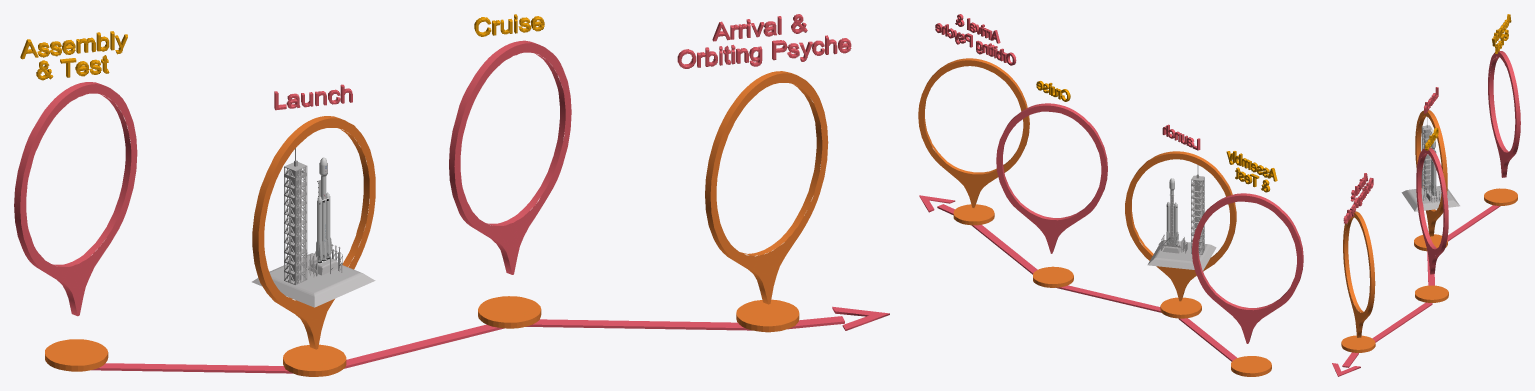
File: time-line-transformed.glb
The picture shows the model from 3 angles, left to right: view 1: azimuth 30°, elevation 25°; view 2: azimuth 150°, elevation 25°; view 3: azimuth 270°, elevation 25°; orthographic projection. The views are drawn at different scales.
Visible parts, largest first — view 1: Object_5, Object_31; view 2: Object_5, Object_31; view 3: Object_5, Object_31.
Boxes of the visible parts, x1,y1,x2,y2 form: Object_5: (14, 14, 851, 376); Object_31: (20, 14, 889, 373); Object_5: (918, 14, 1303, 376); Object_31: (919, 81, 1277, 361); Object_5: (1341, 51, 1520, 352); Object_31: (1332, 14, 1511, 376).
Size of the model in its own units: 268 by 116 by 111.
8 materials, 8 textured.
